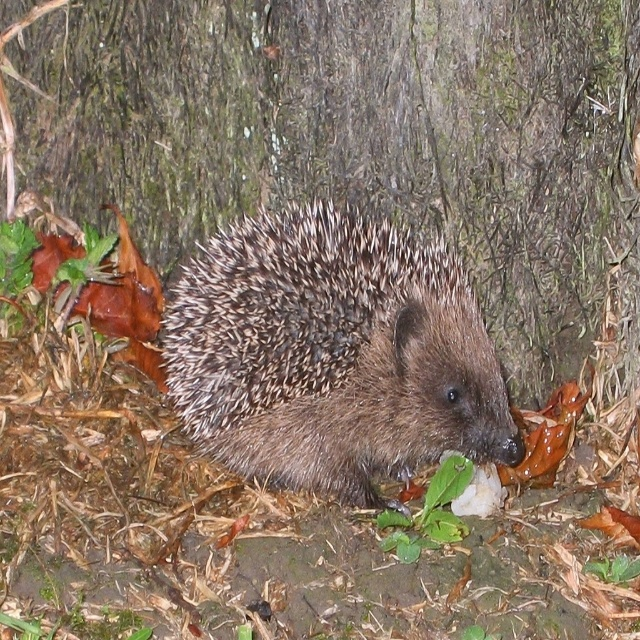Hedgehog: (158, 195, 527, 509)
